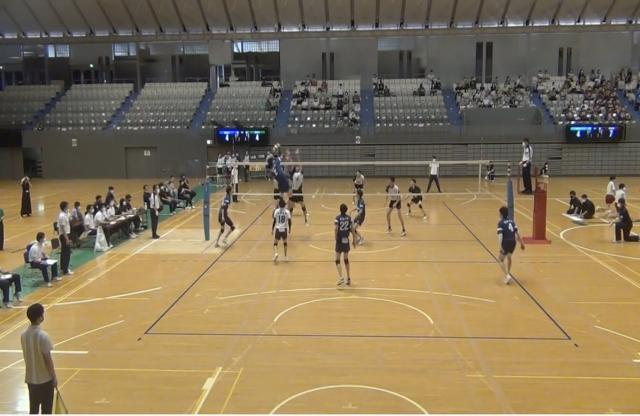spike: (264, 142, 300, 222)
